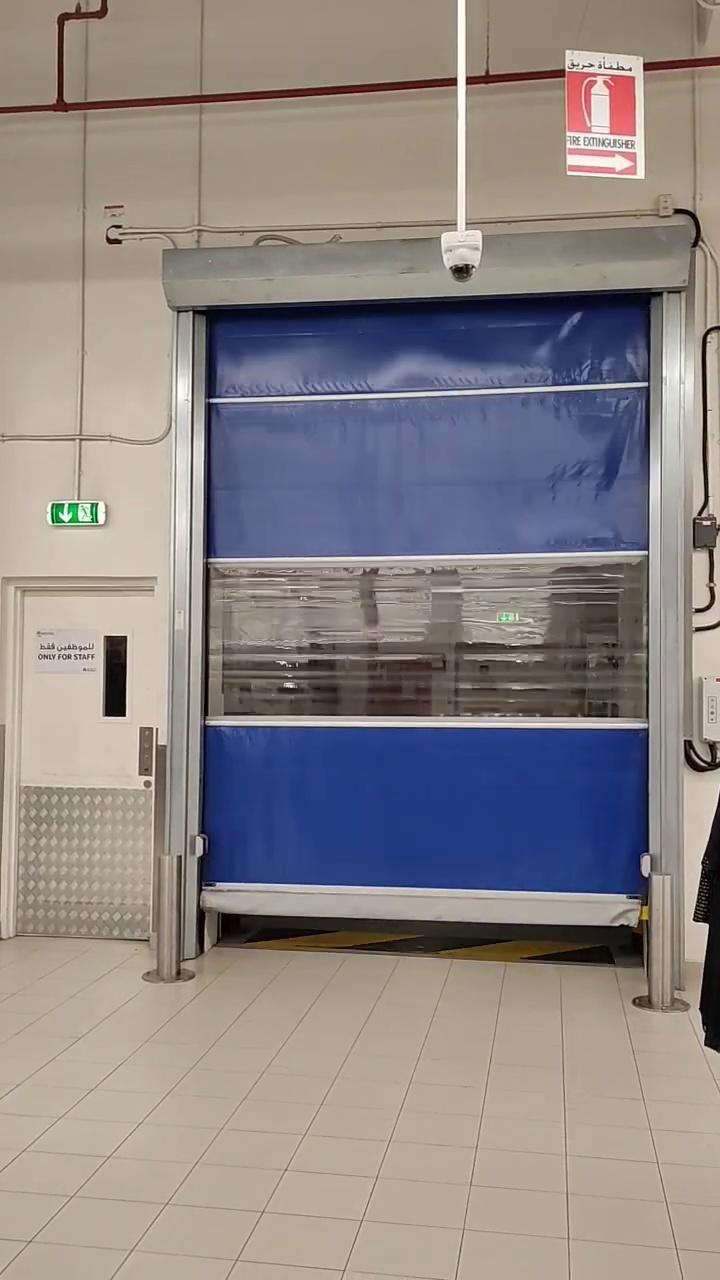Strip: (236, 921, 613, 967)
